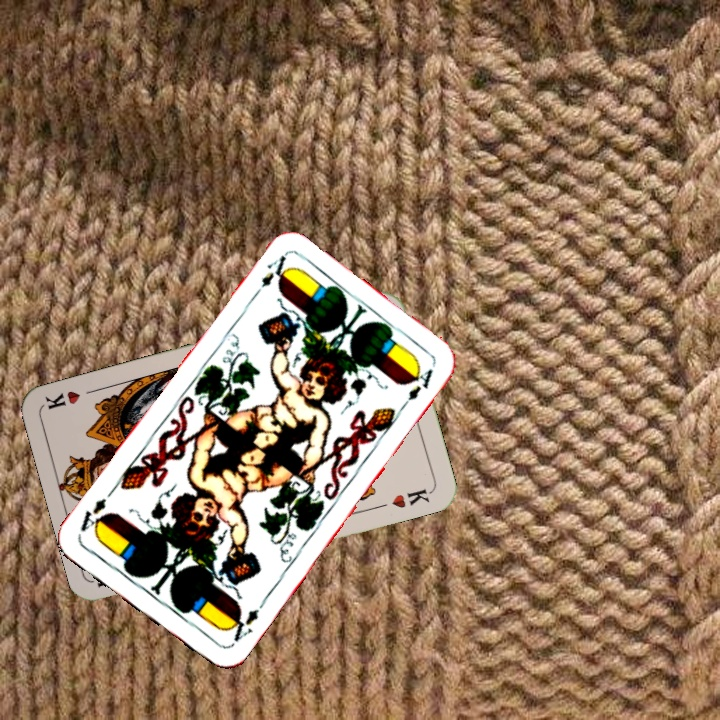EA: (247, 251, 292, 302), (222, 604, 262, 645)
